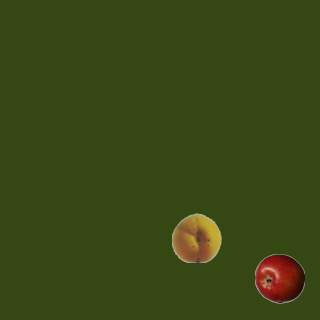Apple Braeburn: (254, 253, 304, 303)
Peach 2: (171, 212, 221, 262)
